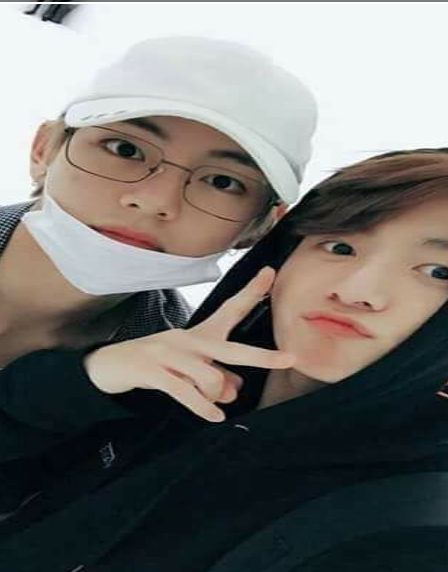mask_weared_incorrect: (32, 33, 312, 299)
